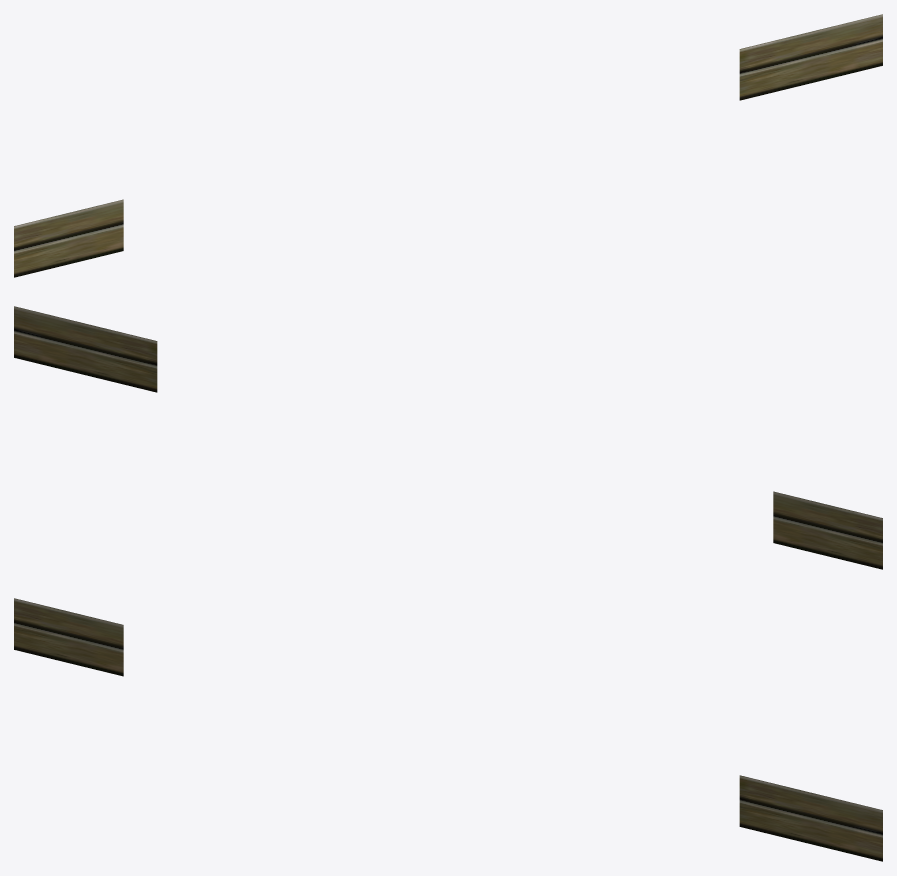
File: CH09_SMAUG_PLAYSURFACE_LAIR112.fbx
The picture shows the model from 3 angles, top to bottom: view 1: azimuth 30°, elevation 25°; view 2: azimuth 150°, elevation 25°; view 3: azimuth 330°, elevation 25°; orthographic projection.
Visible parts, largest first — view 1: CH09_SMAUG_PLAYSURFACE_LAIR112; view 2: CH09_SMAUG_PLAYSURFACE_LAIR112; view 3: CH09_SMAUG_PLAYSURFACE_LAIR112.
Boxes of the visible parts, x1,y1,x2,y2 form: CH09_SMAUG_PLAYSURFACE_LAIR112: (14, 14, 882, 277); CH09_SMAUG_PLAYSURFACE_LAIR112: (14, 306, 882, 569); CH09_SMAUG_PLAYSURFACE_LAIR112: (14, 598, 882, 861).
Bounding box in the file's own units: 160440 × 9110 × 0.0259.
1 material, 1 textured.
